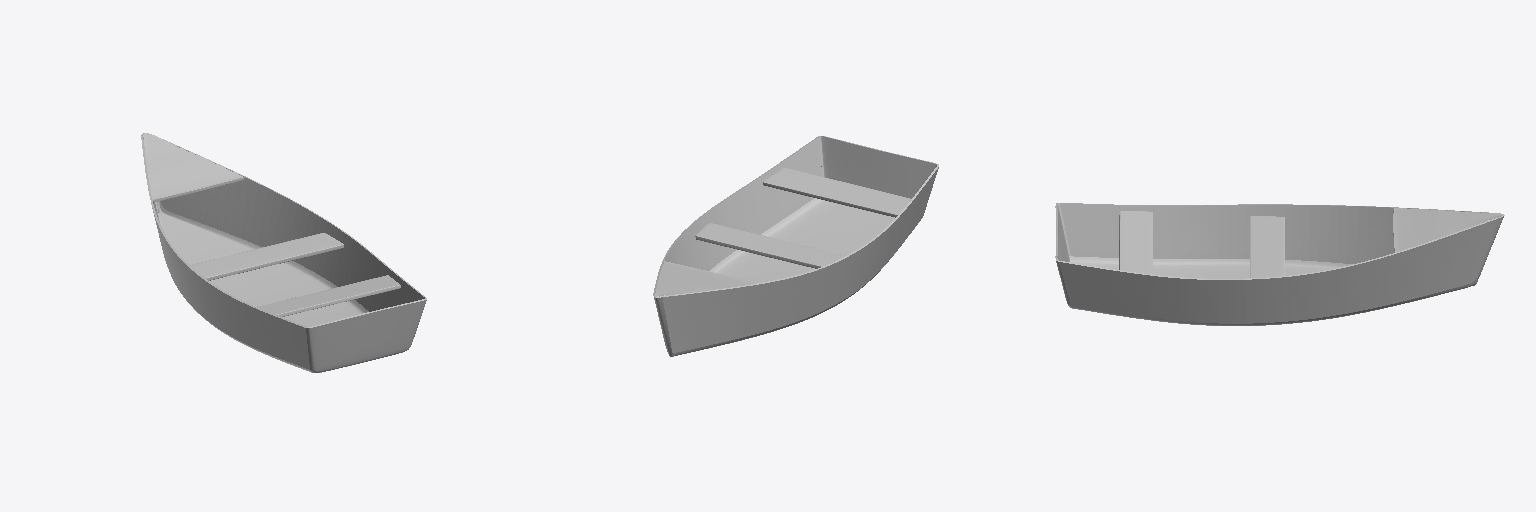
The model's file is RowBoat.obj.
The picture shows the model from 3 angles: view 1: azimuth 30°, elevation 25°; view 2: azimuth 150°, elevation 25°; view 3: azimuth 270°, elevation 25°; orthographic projection.
Parts seen in each view (by area): view 1: Plane, Cube.001, Seat_Cube, Seat.001_Cube.002; view 2: Plane, Seat.001_Cube.002, Seat_Cube, Cube.001; view 3: Plane, Cube.001, Seat_Cube, Seat.001_Cube.002.
Part boxes in pixels (bbox=[...]): Plane: bbox=[141, 134, 426, 372]; Cube.001: bbox=[143, 133, 244, 202]; Seat_Cube: bbox=[190, 233, 343, 280]; Seat.001_Cube.002: bbox=[257, 275, 400, 316]; Plane: bbox=[653, 136, 938, 356]; Seat.001_Cube.002: bbox=[763, 168, 910, 217]; Seat_Cube: bbox=[695, 223, 844, 268]; Cube.001: bbox=[655, 261, 757, 296]; Plane: bbox=[1055, 203, 1504, 325]; Cube.001: bbox=[1393, 208, 1502, 252]; Seat_Cube: bbox=[1250, 216, 1284, 277]; Seat.001_Cube.002: bbox=[1119, 211, 1152, 274].
Bounding box in the file's own units: 0.8798 × 0.4485 × 2.21.